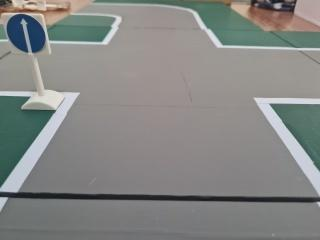straight: (0, 11, 53, 57)
